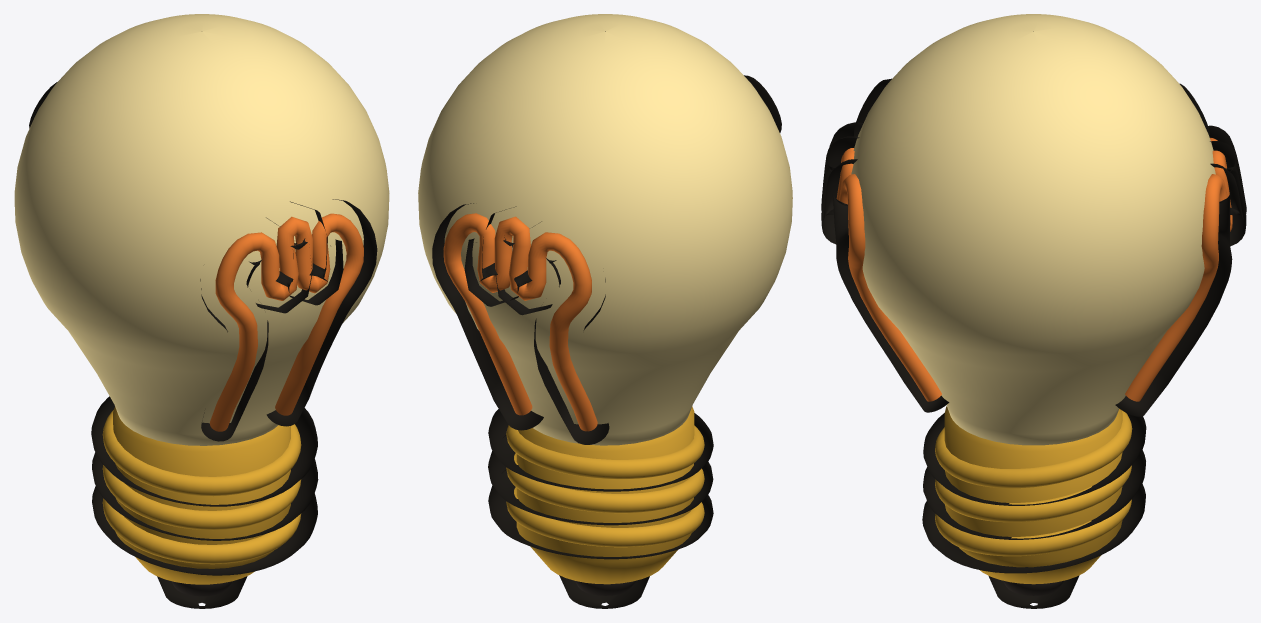
Rendered from lightbulb.glb.
3 views of the same model, side by side, from view 1: azimuth 30°, elevation 25°; view 2: azimuth 150°, elevation 25°; view 3: azimuth 270°, elevation 25° (orthographic).
Parts seen in each view (by area): view 1: LightBulb, LightBulb_outline; view 2: LightBulb, LightBulb_outline; view 3: LightBulb, LightBulb_outline.
Boxes of the visible parts, x1,y1,x2,y2 form: LightBulb: (14, 14, 389, 596); LightBulb_outline: (29, 82, 377, 608); LightBulb: (418, 14, 792, 595); LightBulb_outline: (432, 31, 781, 608); LightBulb: (836, 14, 1232, 595); LightBulb_outline: (821, 31, 1246, 608).
Bounding box in the file's own units: 0.7995 × 1.35 × 0.9077.
